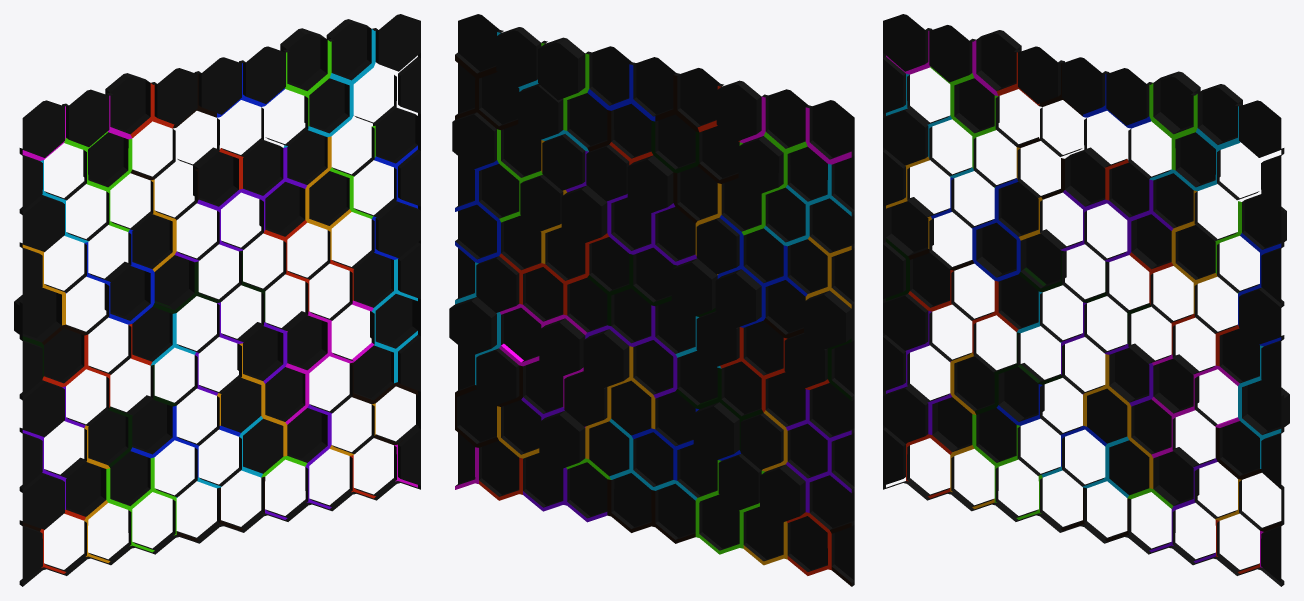
The model's file is P_Hexagonal_Modular_Wall.FBX.
3 views of the same model, side by side, from view 1: azimuth 30°, elevation 25°; view 2: azimuth 150°, elevation 25°; view 3: azimuth 330°, elevation 25° (orthographic).
Parts seen in each view (by area): view 1: P_Hexagonal_Wall; view 2: P_Hexagonal_Wall; view 3: P_Hexagonal_Wall.
Part boxes in pixels (left/top/right/bottom): P_Hexagonal_Wall: left=14, top=14, right=420, bottom=586; P_Hexagonal_Wall: left=449, top=14, right=854, bottom=586; P_Hexagonal_Wall: left=883, top=14, right=1289, bottom=586.
Size of the model in its own units: 4 by 4.61 by 0.1745.
